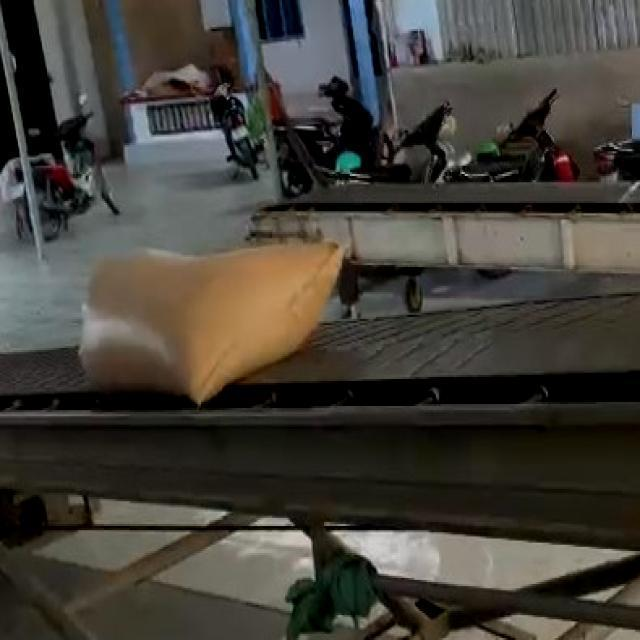gunny_bag: (79, 242, 343, 405)
